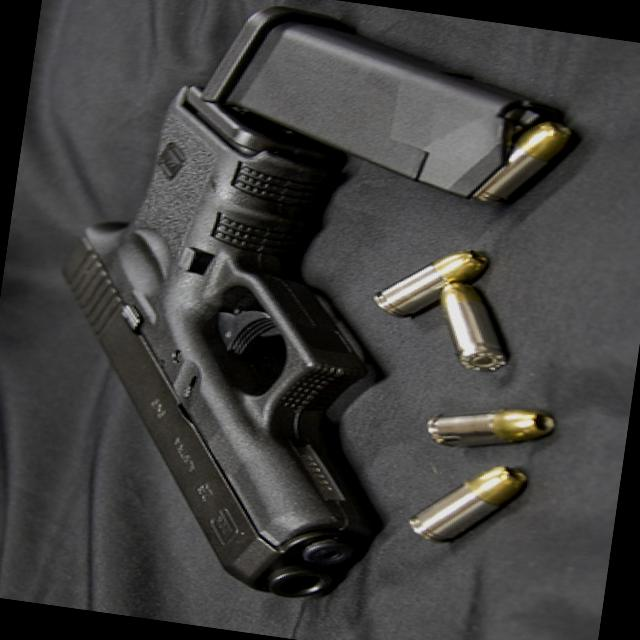handgun: (19, 70, 430, 620)
